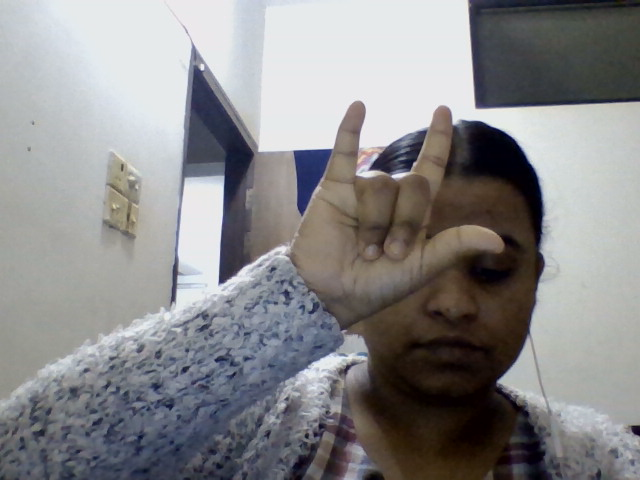I Love You: (259, 81, 524, 325)
